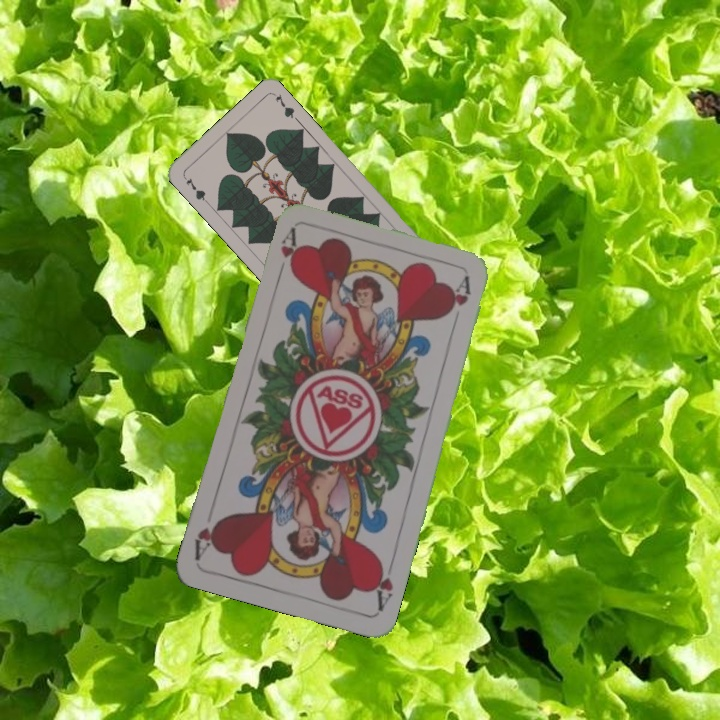G7: (180, 172, 211, 205)
HA: (368, 555, 396, 614), (273, 225, 300, 283)
